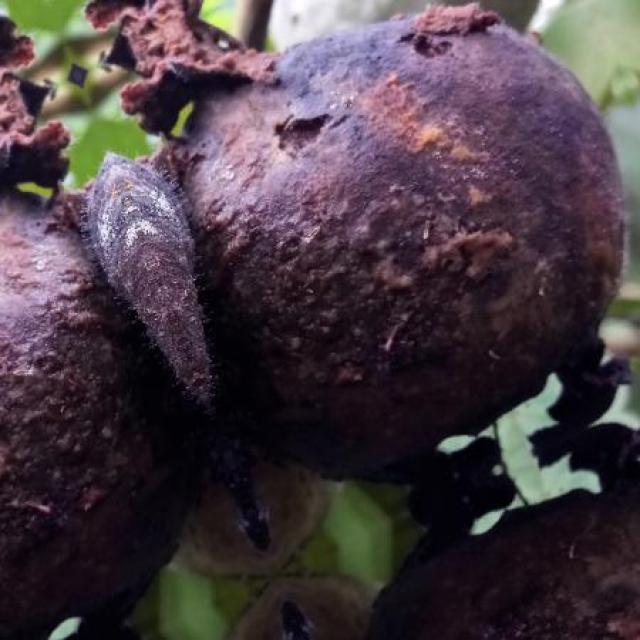Phytopthora: (162, 8, 622, 478), (0, 188, 196, 639), (368, 494, 640, 640)
